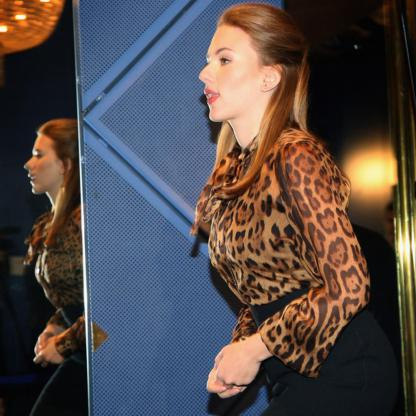face: (200, 28, 264, 123), (25, 135, 62, 195)
